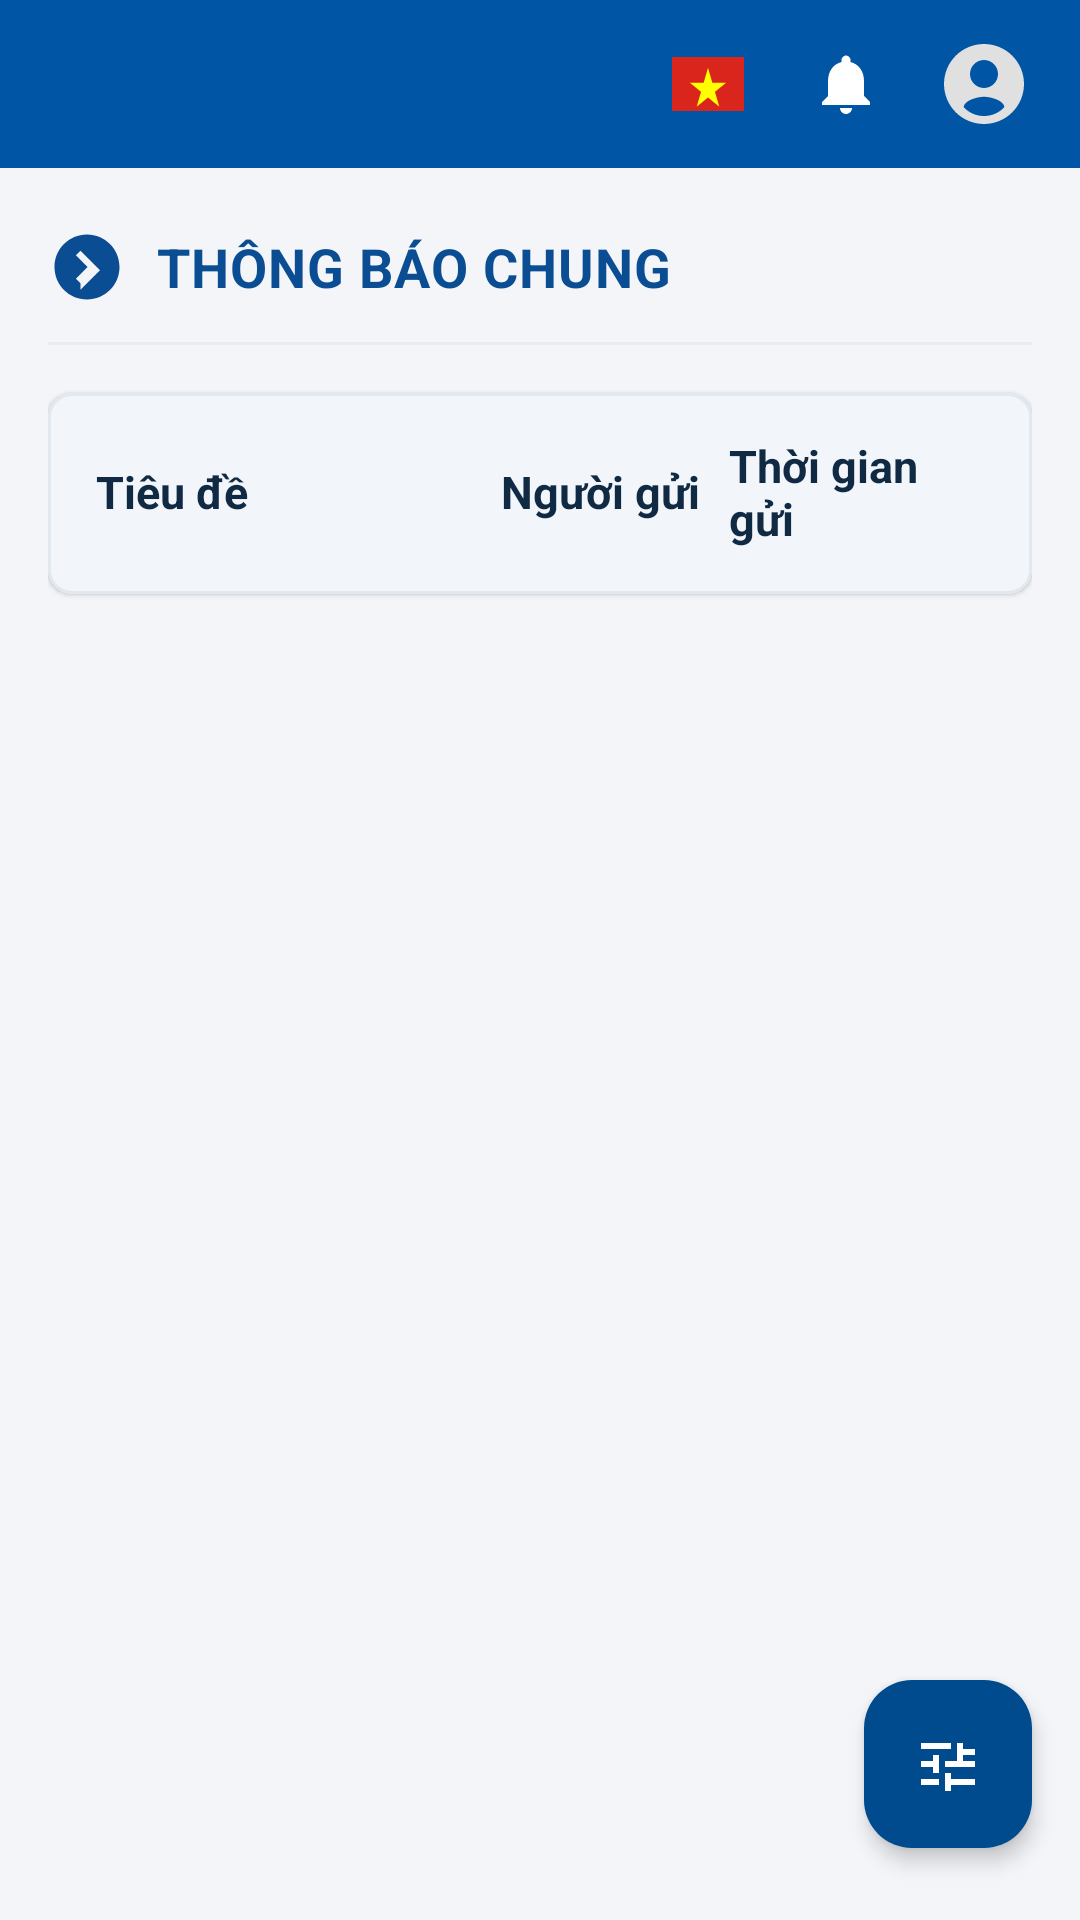

Screen size 1080×1920. Icon name, then its box in pixels as (x1, y1, x2, y2):
account: (944, 44, 1024, 124)
arrow circle right: (54, 234, 120, 300)
bell: (822, 55, 870, 114)
flag vn: (672, 57, 744, 111)
tune fab: (864, 1680, 1032, 1848)
